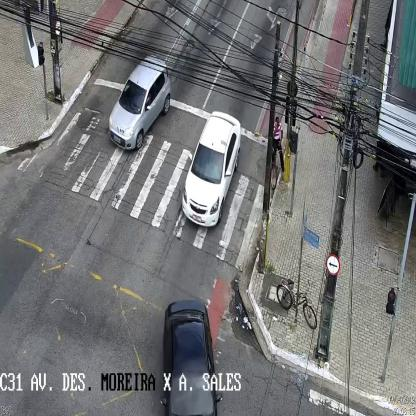bicycle: (277, 278, 317, 330), (270, 116, 288, 187)
car: (160, 298, 221, 416), (182, 110, 240, 230), (108, 55, 170, 152)
